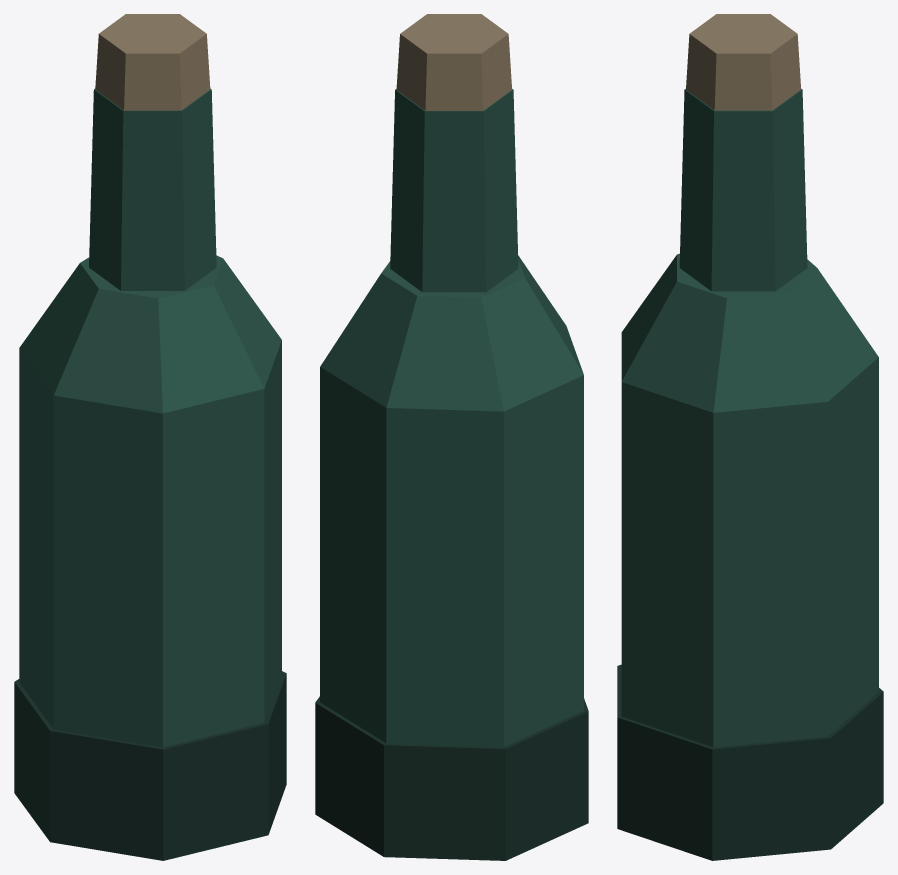
The model's file is bottle_corked.glb.
The picture shows the model from 3 angles, left to right: view 1: azimuth 30°, elevation 25°; view 2: azimuth 150°, elevation 25°; view 3: azimuth 270°, elevation 25°; orthographic projection.
Visible parts, largest first — view 1: pine_d10, pine_d45, driftwood_d30; view 2: pine_d10, pine_d45, driftwood_d30; view 3: pine_d10, pine_d45, driftwood_d30.
Part boxes in pixels (<box>): pine_d10: <box>19,88,281,747</box>; pine_d45: <box>14,671,286,860</box>; driftwood_d30: <box>95,14,210,110</box>; pine_d10: <box>320,89,583,747</box>; pine_d45: <box>315,696,588,860</box>; driftwood_d30: <box>396,14,511,110</box>; pine_d10: <box>621,88,878,747</box>; pine_d45: <box>617,664,883,860</box>; driftwood_d30: <box>686,14,801,110</box>.
Size of the model in its own units: 0.1111 by 0.345 by 0.1084.
